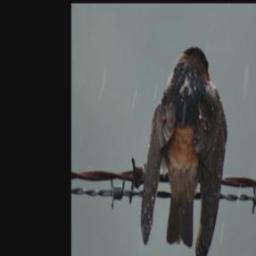Swallow: (139, 45, 228, 256)
